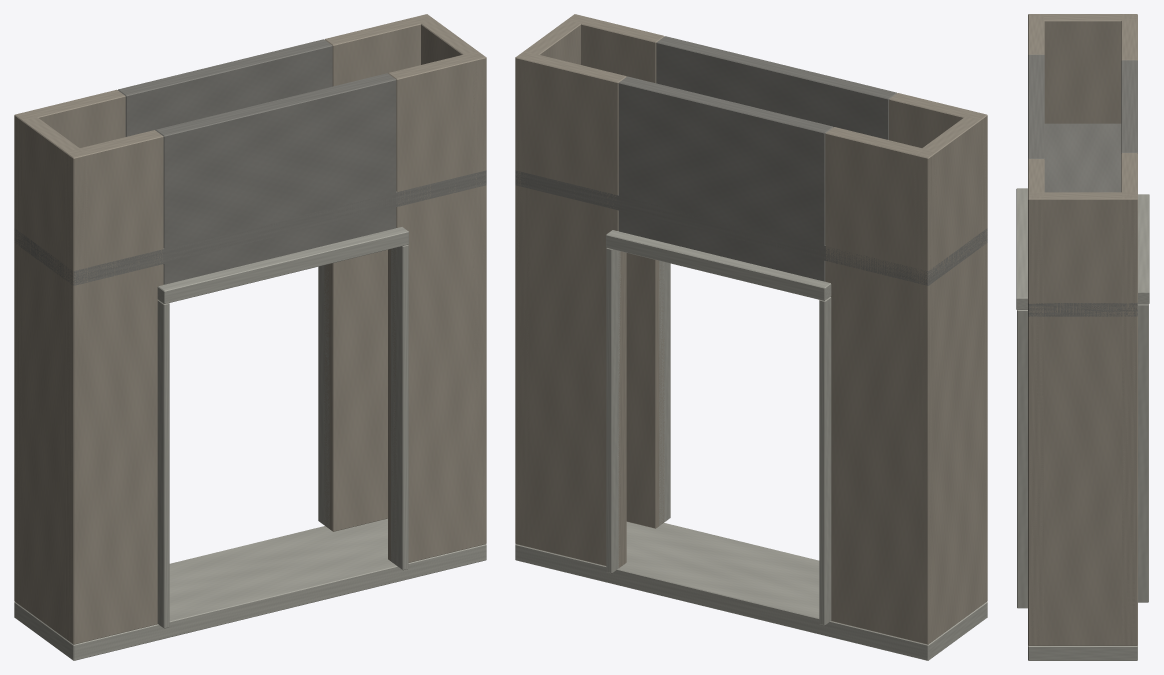
Rendered from A02_AlleyAdapter_visual.glb.
3 views of the same model, side by side, from view 1: azimuth 30°, elevation 25°; view 2: azimuth 150°, elevation 25°; view 3: azimuth 270°, elevation 25° (orthographic). The views are drawn at different scales.
Parts seen in each view (by area): view 1: A02_AlleyAdapter__VIS_shell, A02_AlleyAdapter__VIS_roof; view 2: A02_AlleyAdapter__VIS_shell, A02_AlleyAdapter__VIS_roof; view 3: A02_AlleyAdapter__VIS_shell, A02_AlleyAdapter__VIS_roof.
Boxes of the visible parts, x1,y1,x2,y2 form: A02_AlleyAdapter__VIS_shell: [14, 14, 486, 660]; A02_AlleyAdapter__VIS_roof: [14, 170, 486, 285]; A02_AlleyAdapter__VIS_shell: [515, 14, 987, 660]; A02_AlleyAdapter__VIS_roof: [515, 170, 987, 285]; A02_AlleyAdapter__VIS_shell: [1016, 14, 1149, 660]; A02_AlleyAdapter__VIS_roof: [1028, 123, 1137, 316].
Bounding box in the file's own units: 16 × 18.6 × 4.86.
1 material, 1 textured.
